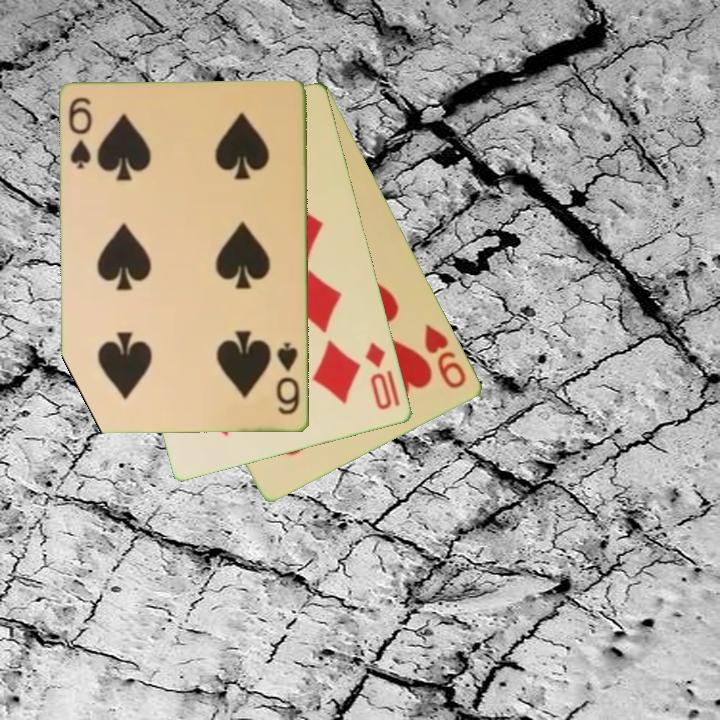10d: (362, 338, 395, 413)
6s: (65, 94, 96, 172), (273, 340, 303, 418)
9h: (421, 320, 470, 392)
